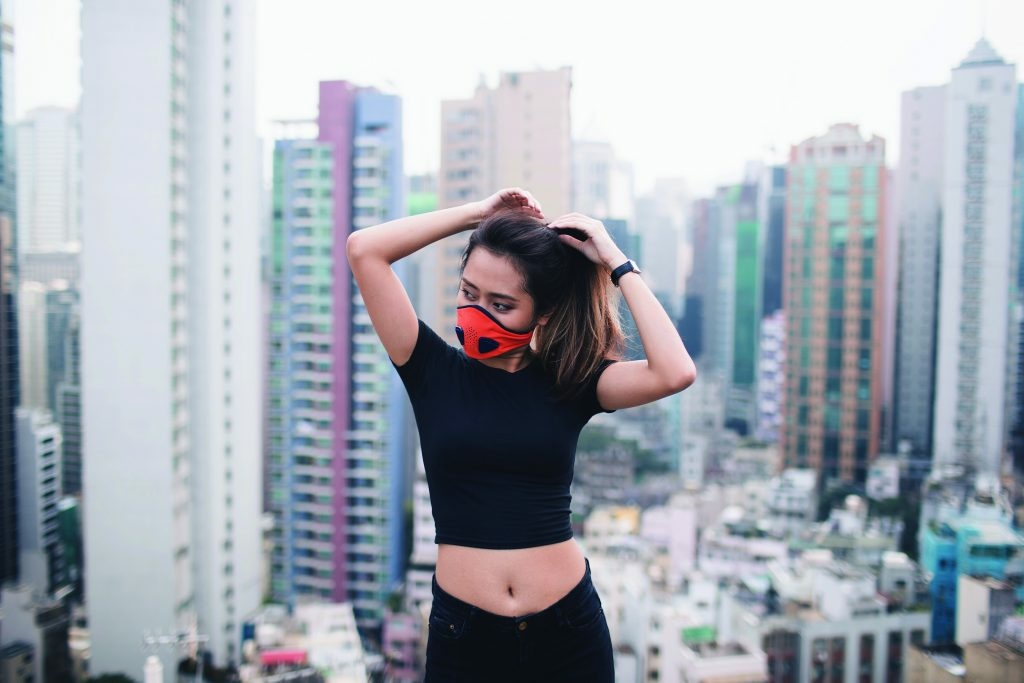with_mask: (445, 228, 561, 365)
